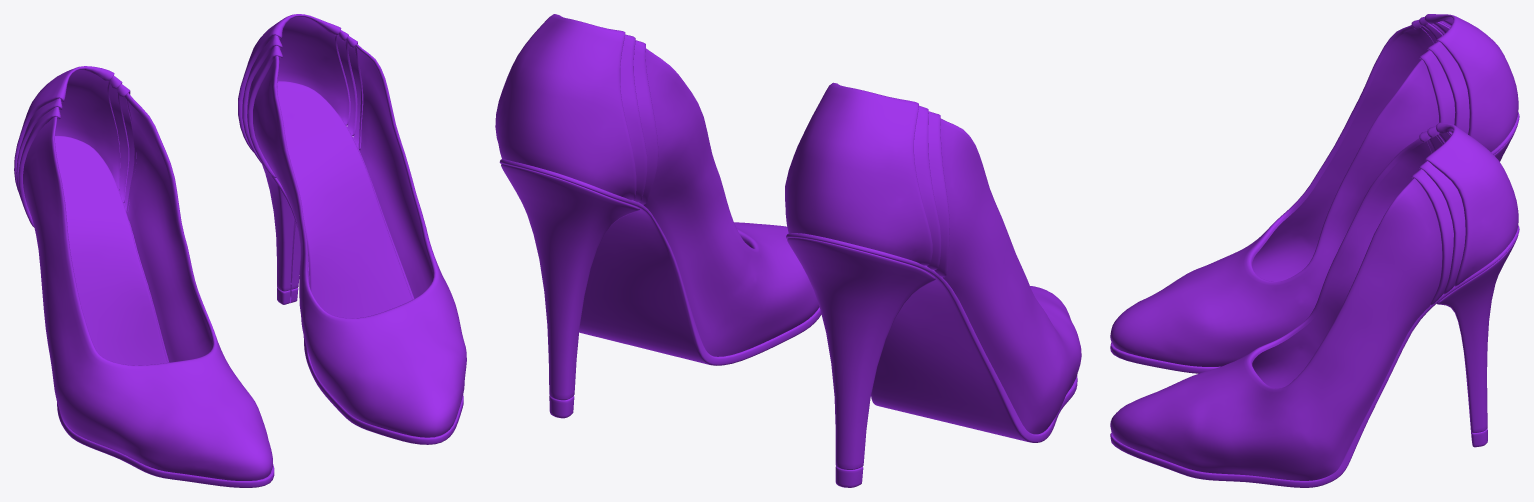
File: HighHeeledShoe.fbx
3 renders of one model, left to right at view 1: azimuth 30°, elevation 25°; view 2: azimuth 150°, elevation 25°; view 3: azimuth 270°, elevation 25°, orthographic. The views are drawn at different scales.
Parts seen in each view (by area): view 1: 4_pumps_0.5_0_0.001, 4_pumps_0.5_0_0.002; view 2: 4_pumps_0.5_0_0.001, 4_pumps_0.5_0_0.002; view 3: 4_pumps_0.5_0_0.002, 4_pumps_0.5_0_0.001.
Part boxes in pixels (bbox=[...]): 4_pumps_0.5_0_0.001: bbox=[14, 66, 274, 487]; 4_pumps_0.5_0_0.002: bbox=[238, 14, 466, 444]; 4_pumps_0.5_0_0.001: bbox=[785, 82, 1081, 487]; 4_pumps_0.5_0_0.002: bbox=[495, 14, 821, 418]; 4_pumps_0.5_0_0.002: bbox=[1110, 122, 1519, 487]; 4_pumps_0.5_0_0.001: bbox=[1110, 14, 1519, 373].
Bounding box in the file's own units: 267 × 204 × 232.
